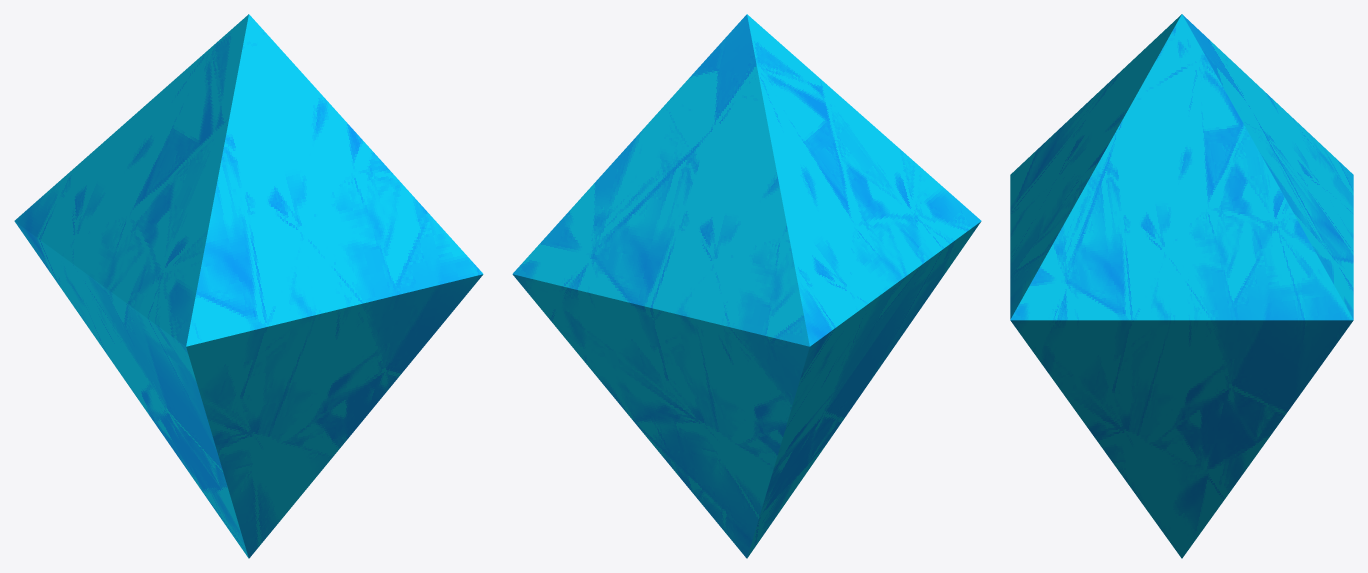
Rendered from diamond_objective.gltf.
3 renders of one model, left to right at view 1: azimuth 30°, elevation 25°; view 2: azimuth 150°, elevation 25°; view 3: azimuth 270°, elevation 25°, orthographic.
Visible parts, largest first — view 1: Diamond; view 2: Diamond; view 3: Diamond.
Boxes of the visible parts, left/top/right/bottom form: Diamond: left=14, top=14, right=483, bottom=558; Diamond: left=512, top=14, right=981, bottom=558; Diamond: left=1010, top=14, right=1353, bottom=558.
Bounding box in the file's own units: 0.25 × 0.4375 × 0.25.
1 material, 1 textured.
